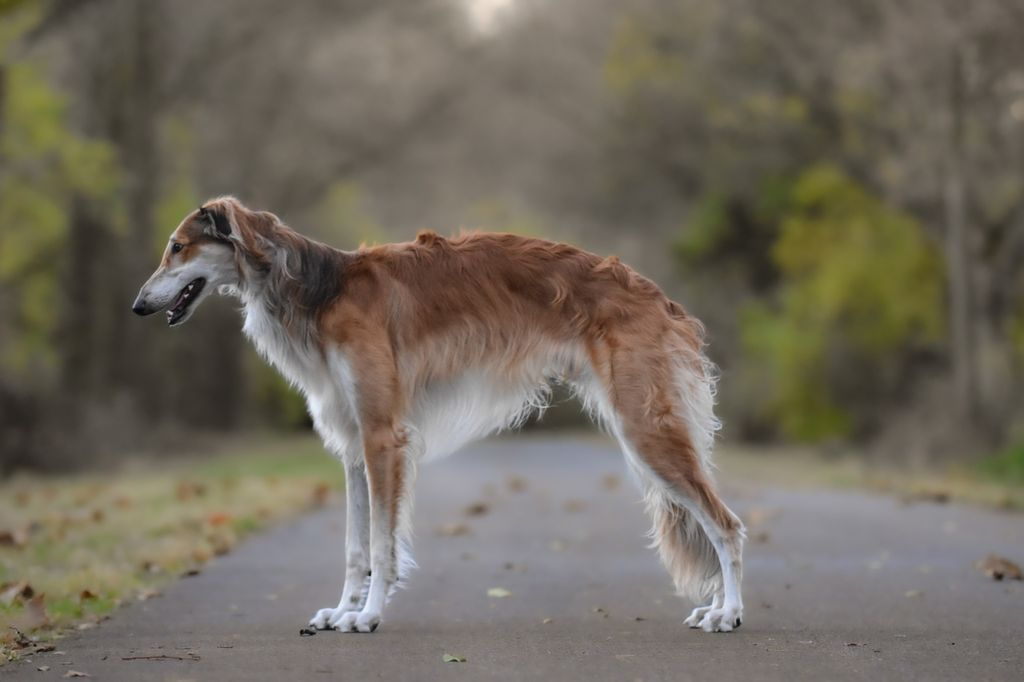borzoi: (125, 192, 769, 641)
